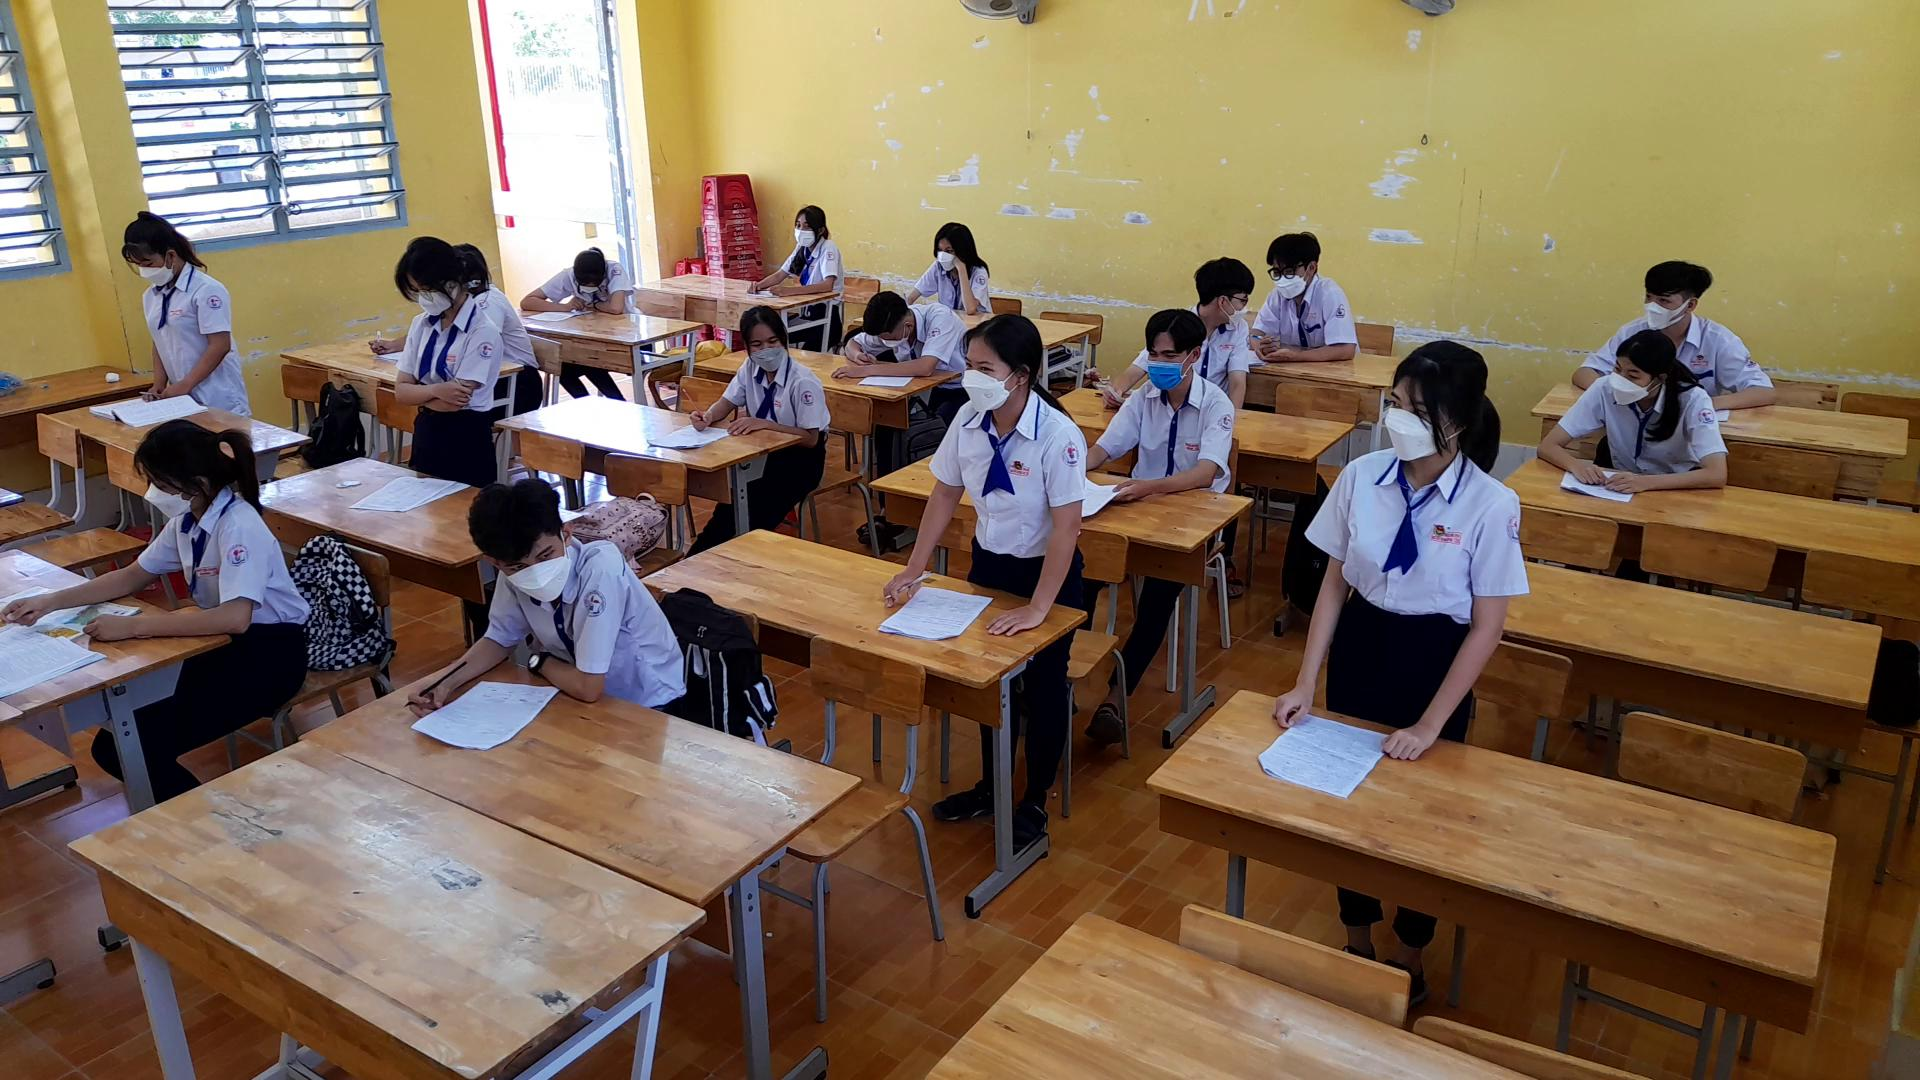Look Around: (1187, 247, 1255, 328)
Normal: (396, 468, 688, 729), (5, 414, 307, 651), (1531, 316, 1731, 498), (1084, 305, 1236, 502), (678, 295, 831, 439), (1244, 212, 1364, 365), (746, 190, 852, 302)
Stand Up: (1261, 336, 1536, 762), (880, 301, 1093, 640), (384, 229, 506, 485), (115, 198, 249, 419)
Wave: (942, 252, 986, 319)
